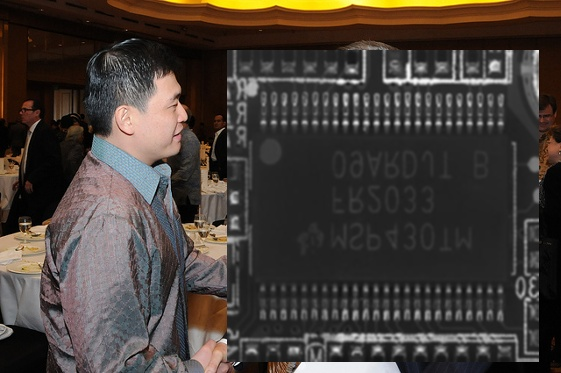PIN: (250, 269, 515, 330), (249, 87, 516, 146)
wineglass: (18, 216, 31, 244), (193, 213, 205, 243), (196, 223, 210, 246), (212, 173, 218, 189)
